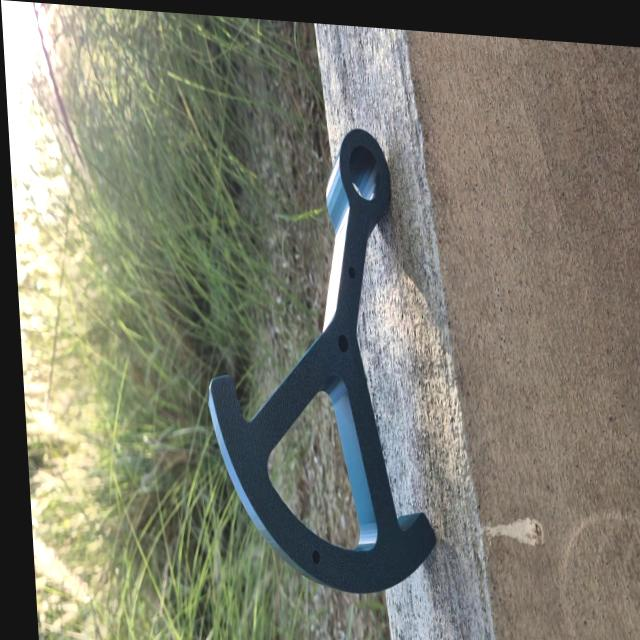haptic: (188, 112, 440, 605)
